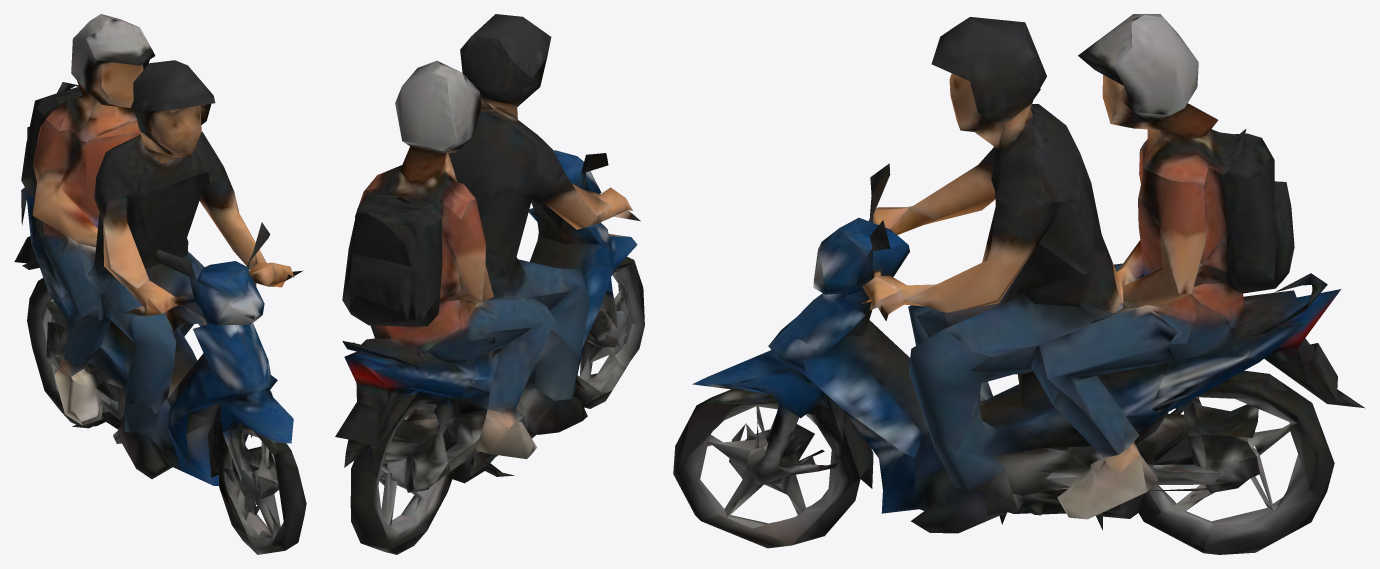
File: jupiter_mx_lod2.glb
3 views of the same model, side by side, from view 1: azimuth 30°, elevation 25°; view 2: azimuth 150°, elevation 25°; view 3: azimuth 270°, elevation 25° (orthographic). The views are drawn at different scales.
Visible parts, largest first — view 1: tripo_node_d758ecfc; view 2: tripo_node_d758ecfc; view 3: tripo_node_d758ecfc.
Part boxes in pixels (bbox=[...]): tripo_node_d758ecfc: bbox=[14, 14, 306, 554]; tripo_node_d758ecfc: bbox=[335, 14, 644, 554]; tripo_node_d758ecfc: bbox=[673, 14, 1365, 554].
Size of the model in its own units: 37.14 by 84.91 by 99.97.
1 material, 1 textured.
